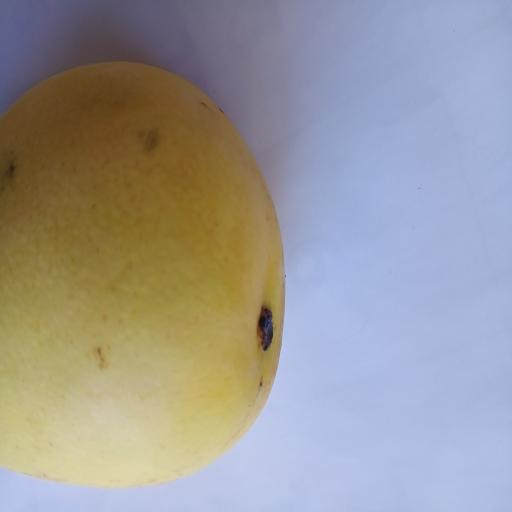mango-ripe: (0, 39, 302, 501)
